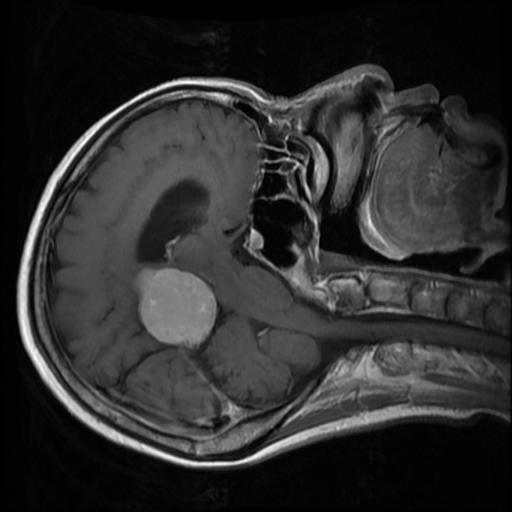meningioma: (129, 264, 218, 350)
